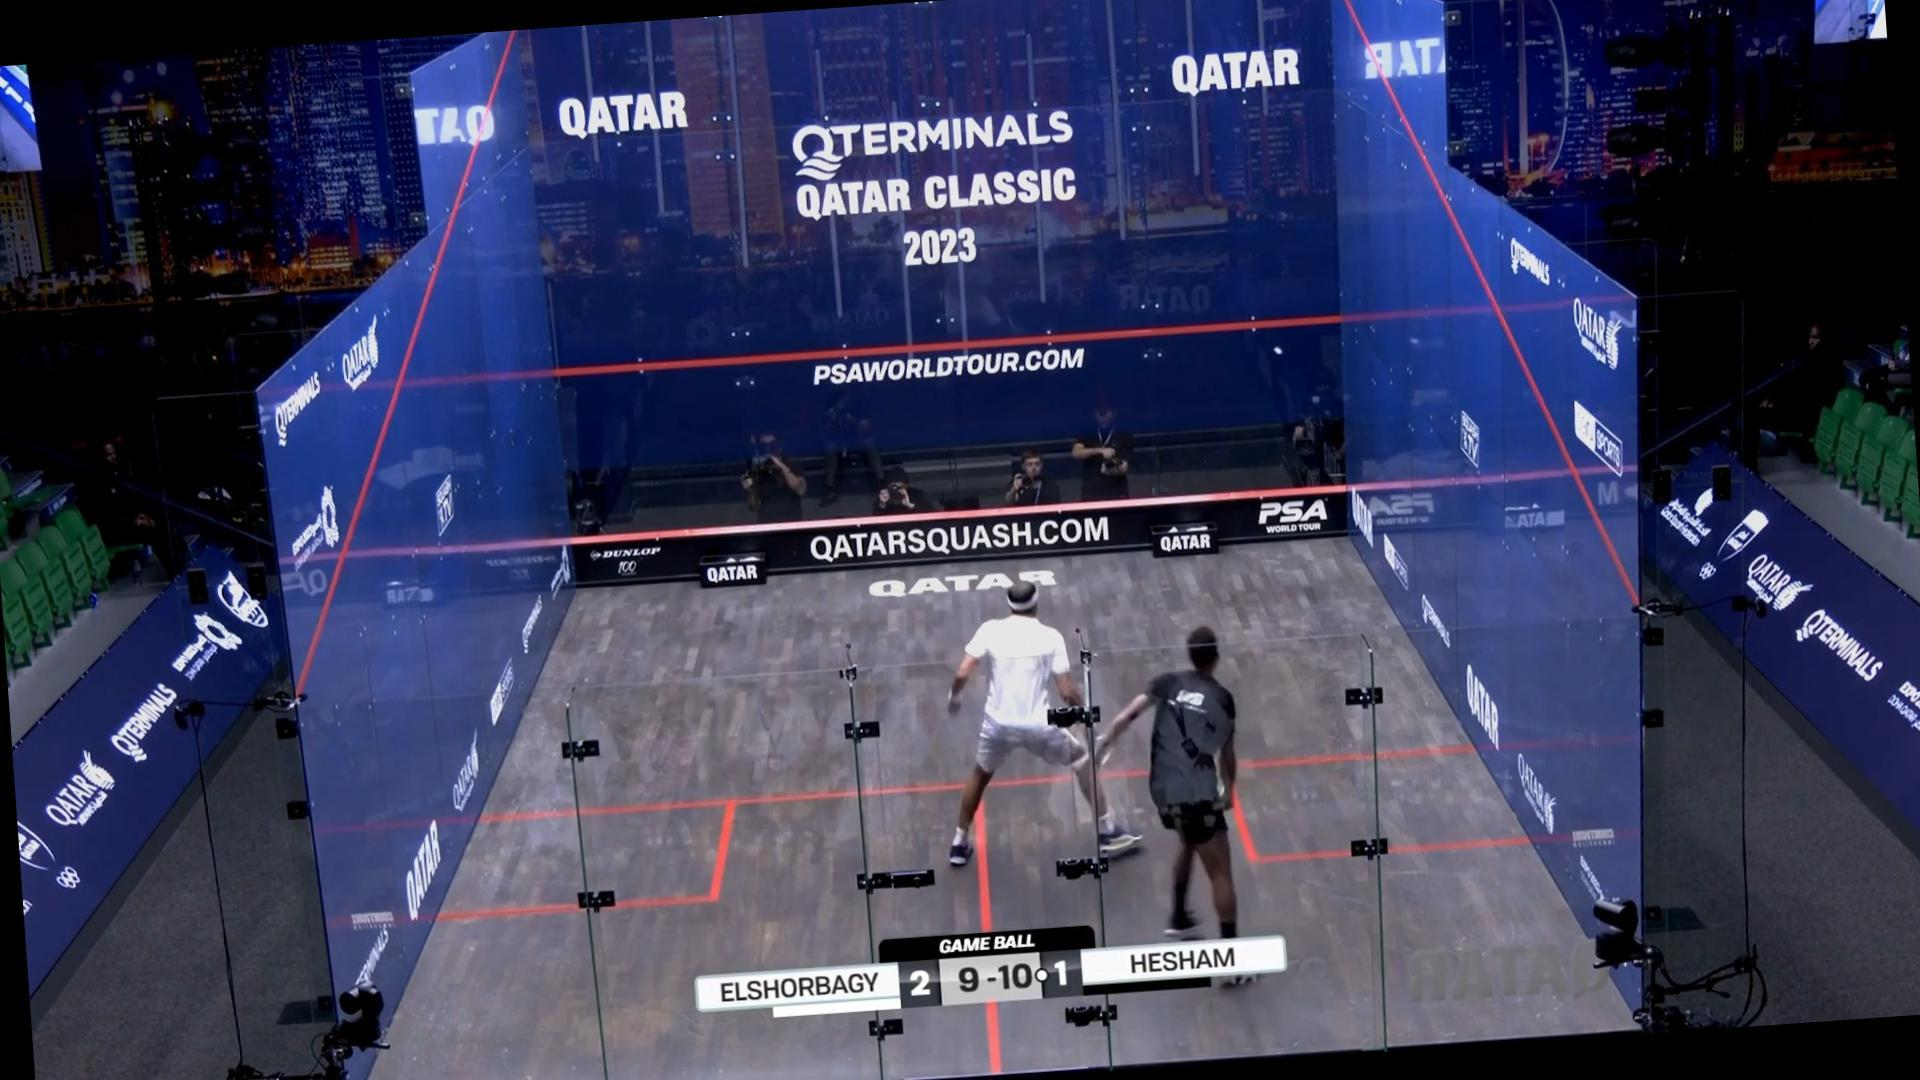Squash-Ball: (1263, 335, 1291, 365)
